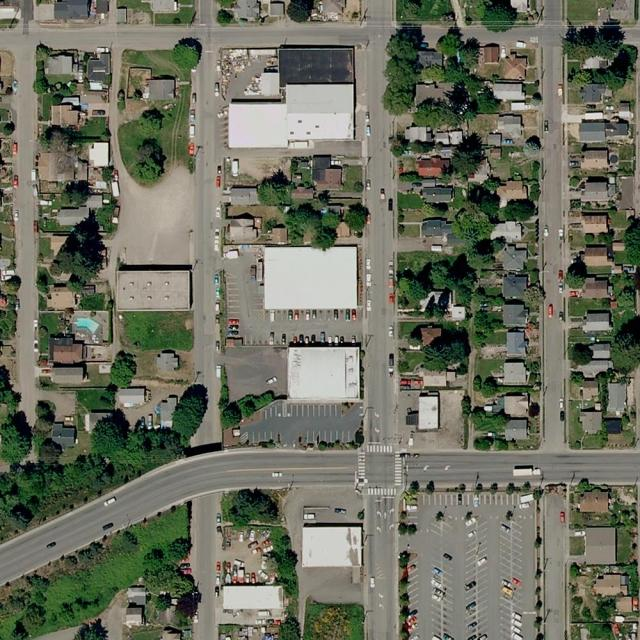building: (263, 246, 358, 310), (287, 344, 360, 399), (116, 265, 191, 311), (279, 46, 354, 86), (229, 99, 288, 148), (220, 49, 276, 96), (301, 526, 363, 568), (502, 242, 529, 326), (286, 83, 354, 113), (288, 112, 354, 140), (417, 213, 465, 246), (572, 341, 613, 379), (222, 585, 284, 610), (72, 311, 109, 345), (493, 175, 531, 208), (578, 119, 630, 143), (37, 151, 78, 181), (49, 333, 85, 365), (585, 528, 616, 565), (312, 155, 342, 189), (124, 584, 146, 628), (466, 158, 497, 189), (416, 391, 440, 430), (55, 205, 92, 229), (592, 572, 629, 596), (141, 76, 179, 99), (50, 421, 79, 451), (415, 319, 445, 347), (47, 283, 78, 310), (226, 216, 259, 241), (501, 51, 528, 81), (581, 176, 611, 203), (420, 289, 453, 313), (86, 52, 110, 83), (582, 243, 613, 266), (53, 1, 90, 20), (158, 395, 179, 428), (416, 157, 450, 177), (579, 491, 609, 513), (492, 81, 525, 101), (229, 185, 259, 207), (115, 387, 146, 408), (504, 392, 529, 418), (503, 417, 529, 442), (51, 104, 79, 127), (581, 211, 609, 234), (582, 276, 610, 299), (582, 310, 611, 332), (259, 67, 280, 97), (51, 366, 84, 385), (490, 223, 523, 242), (505, 329, 526, 358), (84, 411, 112, 432), (581, 149, 609, 170), (504, 360, 528, 384), (498, 114, 522, 138), (579, 410, 603, 434), (579, 83, 606, 104), (608, 382, 626, 413), (422, 186, 454, 203), (233, 0, 260, 20), (88, 142, 109, 167), (47, 55, 73, 74), (312, 155, 331, 181), (156, 350, 179, 371), (405, 126, 432, 142), (150, 0, 179, 14), (614, 595, 634, 614), (80, 91, 108, 104), (582, 380, 599, 401), (482, 42, 499, 62), (271, 225, 288, 245), (75, 161, 90, 182), (84, 194, 104, 209), (433, 131, 450, 147), (449, 306, 465, 321), (61, 95, 80, 107), (449, 130, 464, 145), (336, 221, 350, 237), (487, 132, 501, 146), (611, 239, 625, 252), (110, 180, 120, 198)
dryland: (110, 165, 194, 264)
greenland: (0, 500, 213, 640), (106, 86, 219, 191), (250, 156, 352, 265), (430, 36, 503, 126), (49, 207, 124, 293), (395, 253, 479, 312), (14, 41, 81, 111), (462, 179, 540, 233), (382, 24, 425, 117), (568, 563, 615, 640), (610, 485, 639, 596), (119, 41, 195, 83), (561, 21, 627, 65), (122, 311, 194, 351), (445, 199, 499, 252), (267, 523, 303, 598), (443, 130, 494, 182), (222, 485, 282, 529), (304, 603, 364, 640), (141, 560, 196, 600), (214, 364, 244, 430), (411, 97, 465, 133), (424, 329, 470, 371), (0, 411, 34, 466), (167, 32, 210, 75), (132, 136, 169, 185), (103, 348, 144, 392), (166, 586, 209, 627), (235, 384, 278, 419), (467, 405, 509, 438), (434, 24, 470, 61), (397, 0, 453, 22), (559, 257, 594, 292), (465, 238, 498, 271), (60, 179, 92, 209), (39, 311, 62, 352), (472, 305, 494, 347), (77, 387, 113, 412), (0, 365, 21, 406), (457, 288, 504, 306), (33, 60, 55, 96), (475, 373, 502, 400), (286, 0, 314, 22), (80, 117, 108, 137), (40, 94, 61, 120), (279, 615, 301, 639), (389, 133, 409, 158), (570, 344, 592, 366), (617, 284, 635, 308), (421, 65, 445, 82), (473, 436, 494, 451), (216, 9, 234, 24)
metalled_road: (400, 492, 535, 639), (184, 0, 223, 453), (11, 0, 39, 424), (246, 399, 362, 450), (537, 495, 570, 640), (30, 23, 192, 52), (222, 251, 271, 346), (220, 341, 293, 401), (191, 495, 220, 640), (215, 21, 368, 48), (265, 309, 361, 345), (460, 24, 538, 43), (421, 24, 449, 45), (0, 29, 16, 49)
